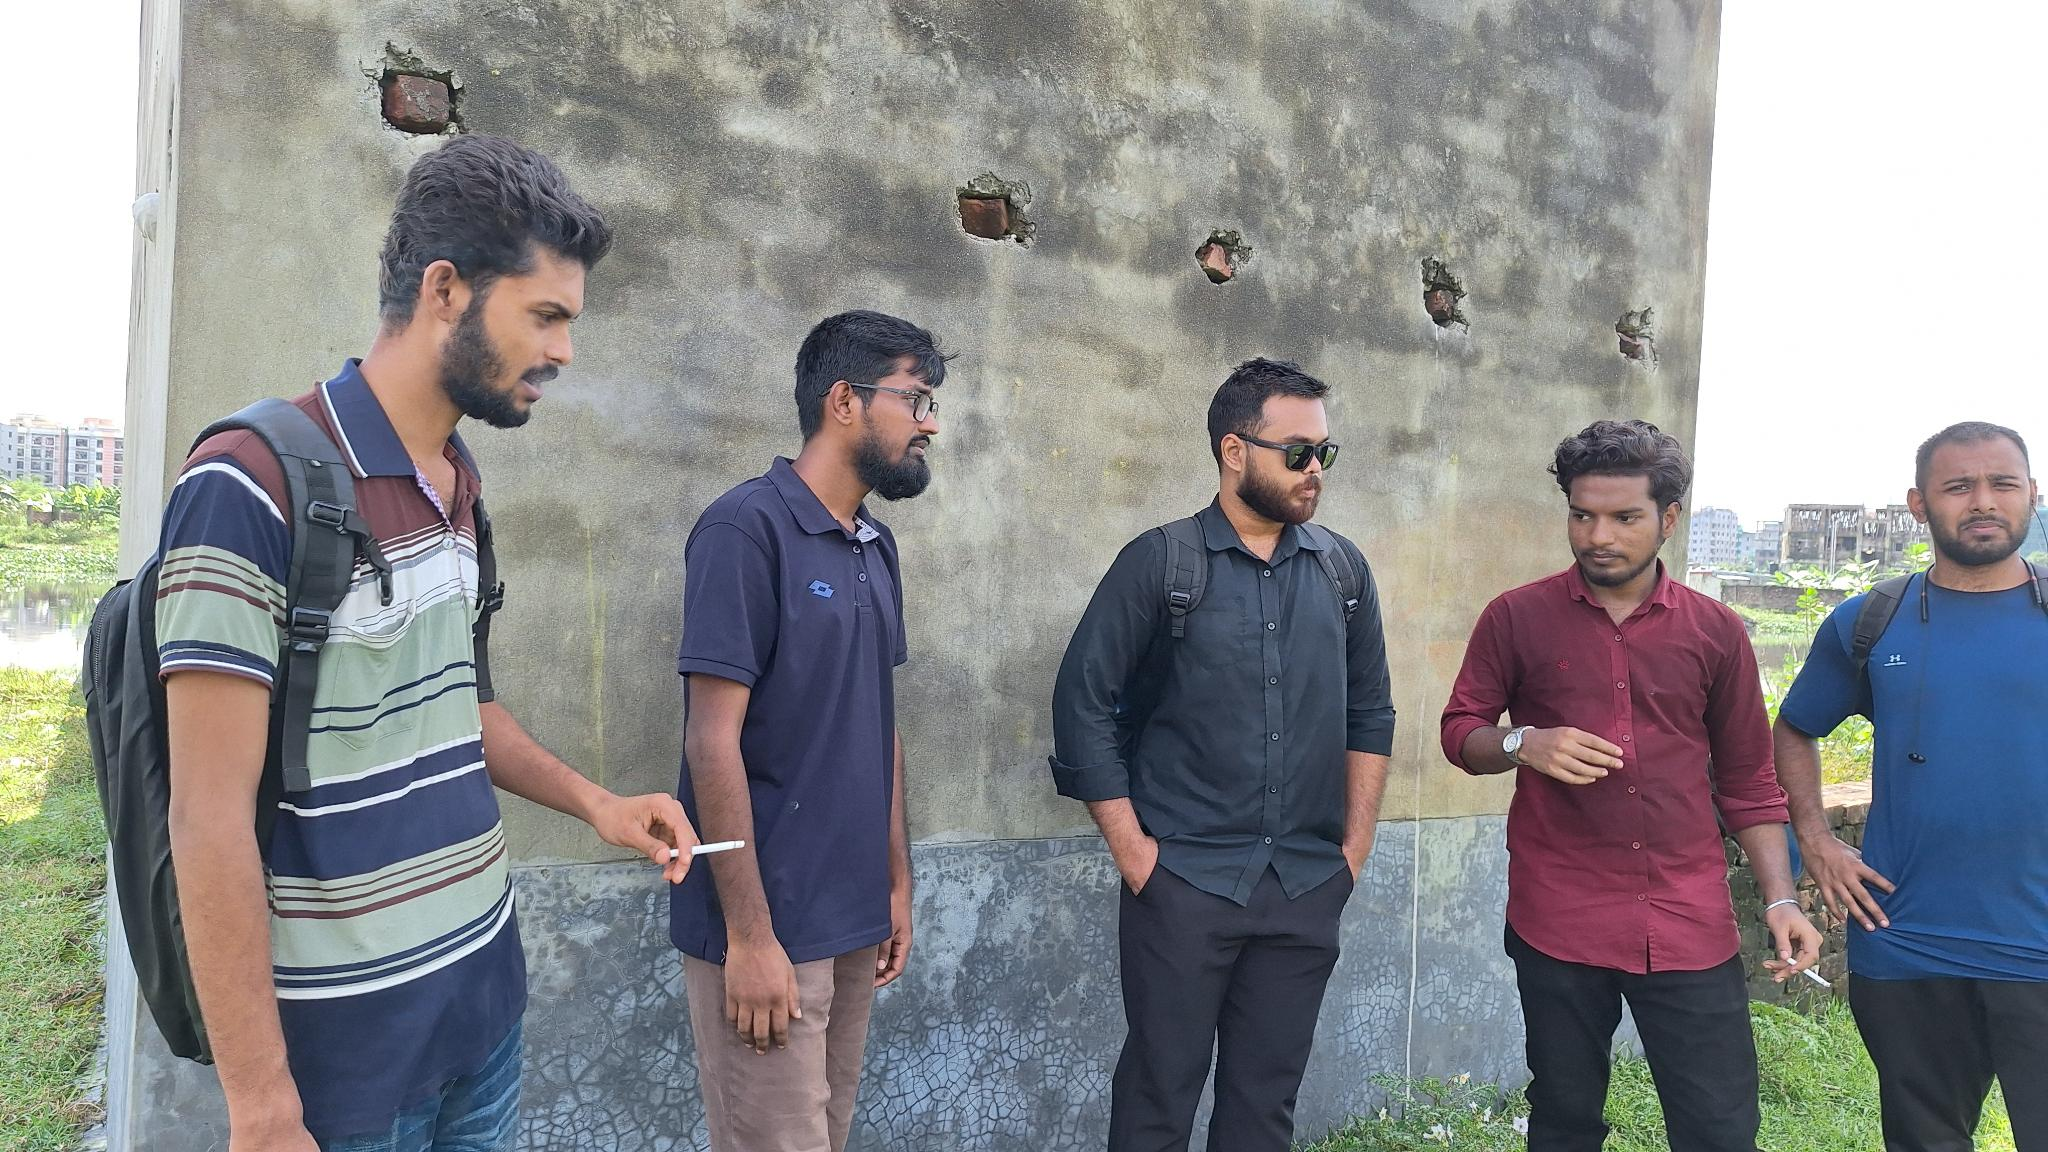cigarette: (668, 836, 748, 861), (1785, 956, 1834, 990)
nonSmoker: (1052, 356, 1397, 1152), (670, 309, 951, 1152), (1777, 421, 2048, 1152)
smoker: (79, 134, 702, 1152), (1440, 415, 1840, 1152)
